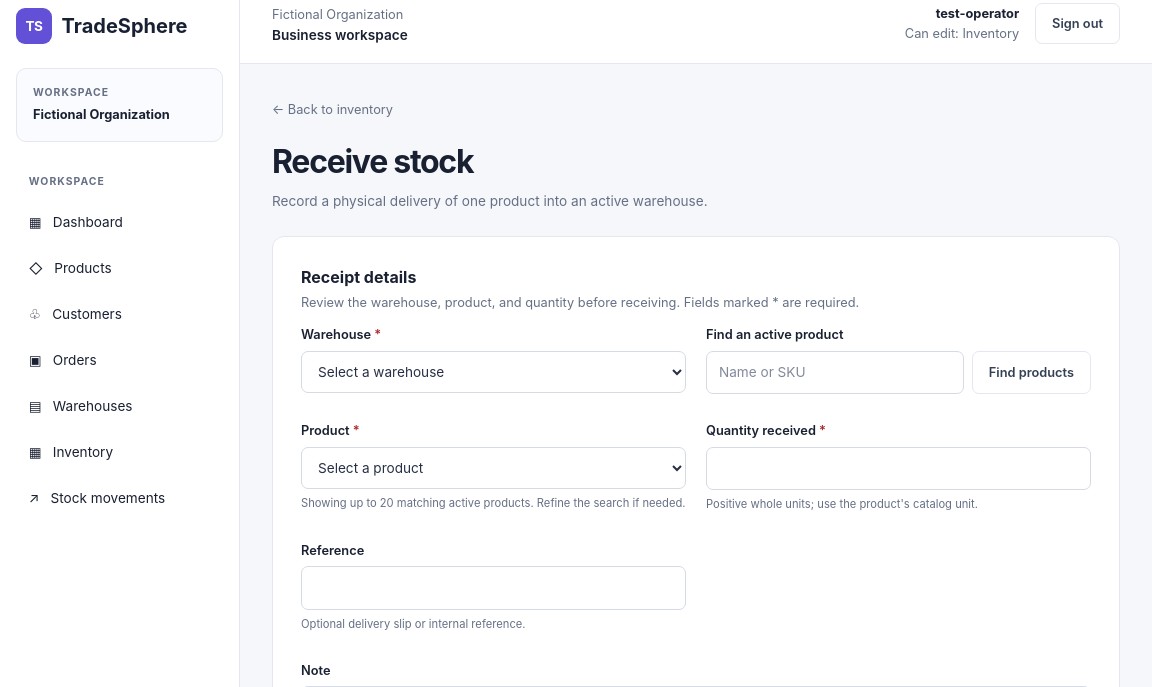
Test case: warehouse and inventory interactions › keeps an uncertain receipt locked and retries the identical request
The image size is (1152, 687).
Select "Colombo test warehouse (COL-01)" in the dropdown labelled "Warehouse *". click: (494, 372)
box: [301, 351, 686, 393]
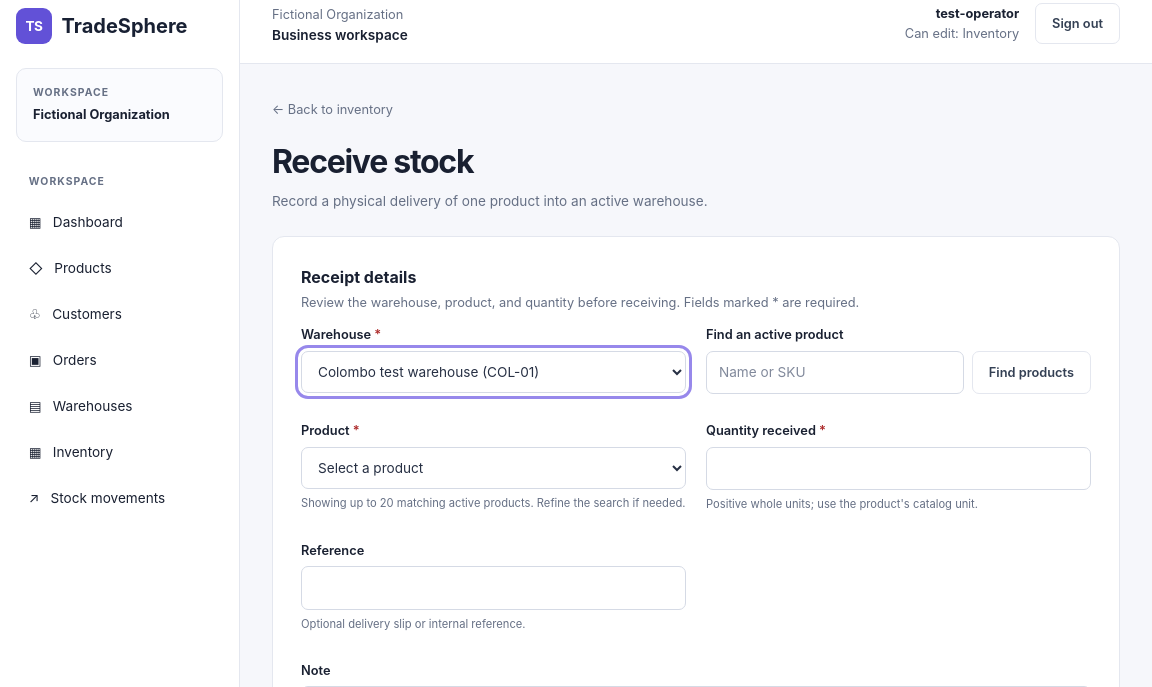
Select "Packing tape (TAPE-01)" in the dropdown labelled "Product *". click: (494, 468)
box: [301, 446, 686, 488]
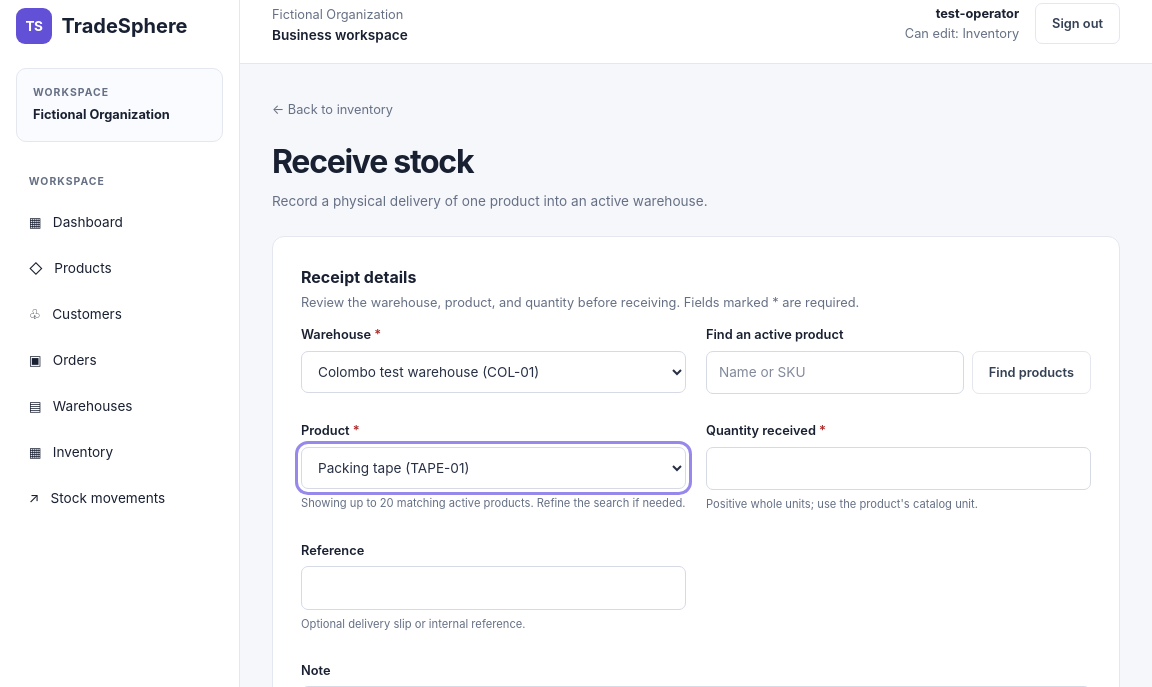
Type "25" into the number field labelled "Quantity received *". click: (898, 468)
box: [706, 446, 1091, 490]
(page scrolled)
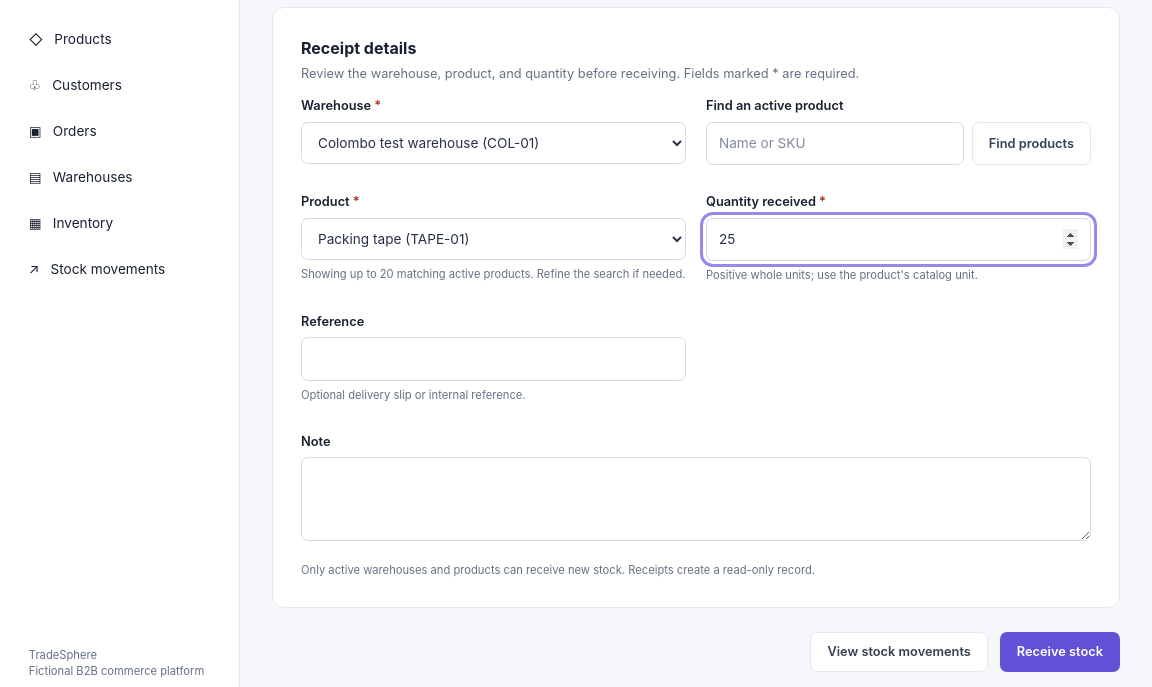
Click the button "Receive stock". click: (1060, 652)
box: [1000, 632, 1120, 672]
(page scrolled)
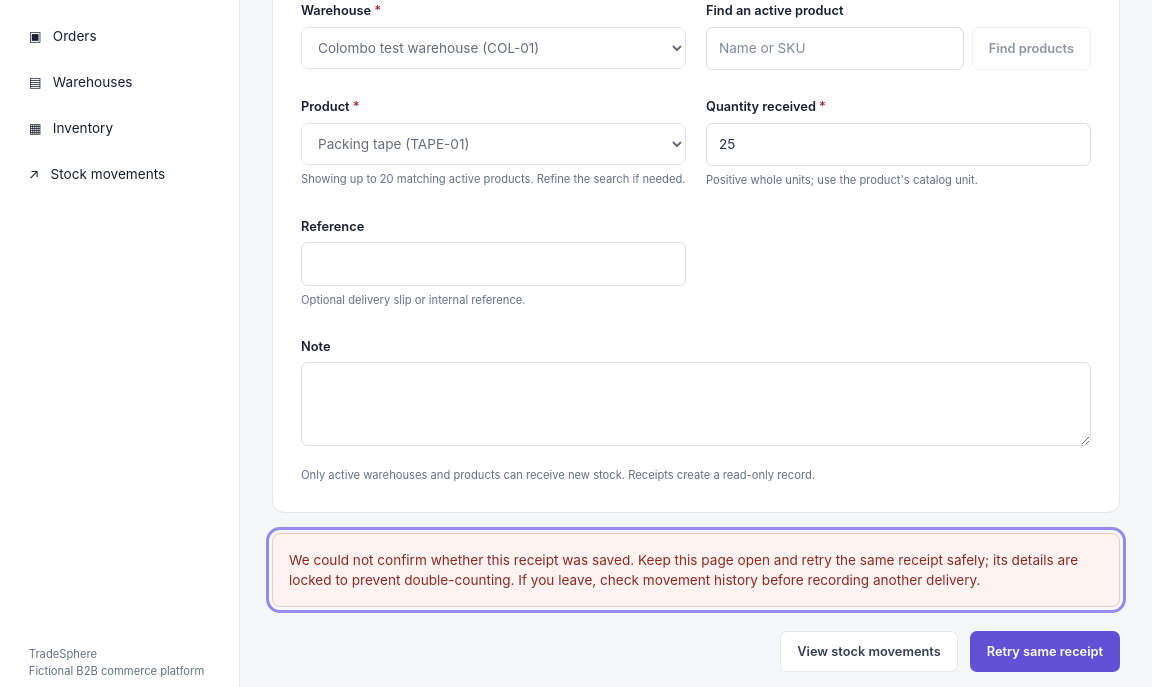
Expected: the number field labelled "Quantity received *" is disabled, [706, 122, 1091, 166]
Now the message shows "could not confirm", box [289, 552, 1078, 588]
Click the button "Retry same receipt". click: (1045, 652)
box: [970, 631, 1120, 672]
(page scrolled)
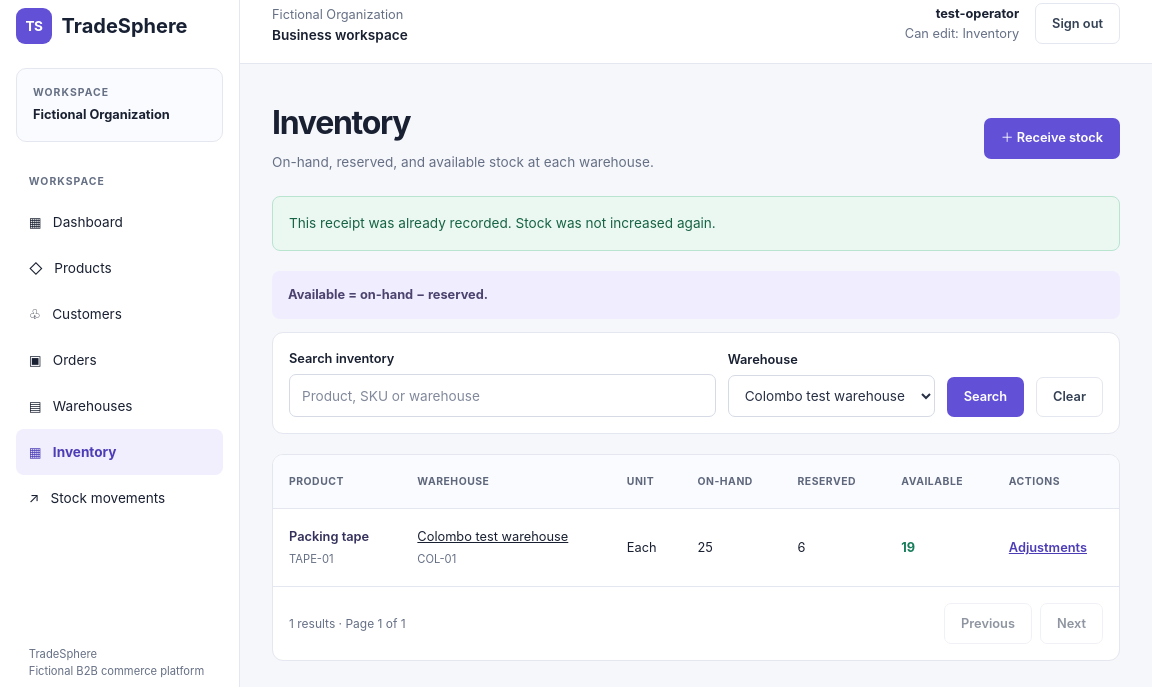
Now the text "This receipt was already recorded. Stock was not increased again." is shown, box [272, 196, 1120, 251]
